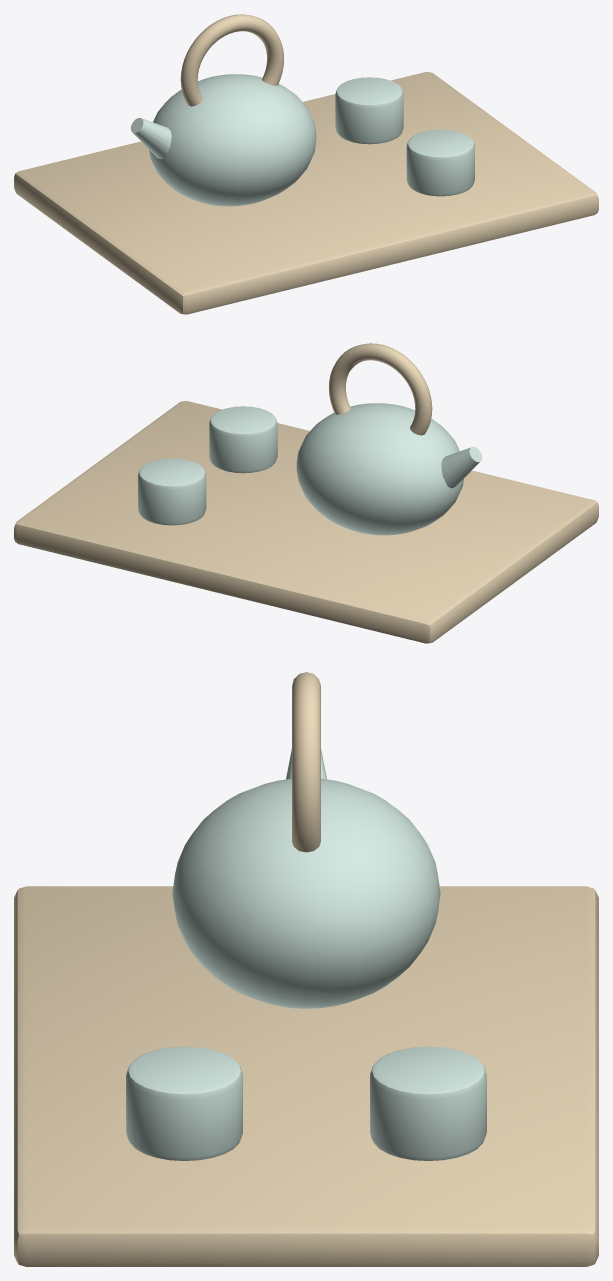
Rendered from celadon-tea-ceremony-set.glb.
3 renders of one model, top to bottom at view 1: azimuth 30°, elevation 25°; view 2: azimuth 150°, elevation 25°; view 3: azimuth 270°, elevation 25°, orthographic. The views are drawn at different scales.
Visible parts, largest first — view 1: tea_BambooTray, tea_CeladonTeapot, tea_Teacup_0, tea_Teacup_1, tea_TeapotHandle, tea_TeapotSpout; view 2: tea_BambooTray, tea_CeladonTeapot, tea_Teacup_1, tea_Teacup_0, tea_TeapotHandle, tea_TeapotSpout; view 3: tea_BambooTray, tea_CeladonTeapot, tea_Teacup_0, tea_Teacup_1, tea_TeapotHandle.
Boxes of the visible parts, x1,y1,x2,y2 form: tea_BambooTray: [14, 72, 598, 314]; tea_CeladonTeapot: [149, 74, 316, 206]; tea_Teacup_0: [406, 129, 474, 196]; tea_Teacup_1: [335, 77, 403, 144]; tea_TeapotHandle: [180, 14, 284, 106]; tea_TeapotSpout: [130, 118, 171, 159]; tea_BambooTray: [14, 401, 598, 643]; tea_CeladonTeapot: [296, 403, 463, 535]; tea_Teacup_1: [138, 458, 206, 525]; tea_Teacup_0: [209, 406, 277, 473]; tea_TeapotHandle: [328, 343, 432, 435]; tea_TeapotSpout: [441, 447, 482, 488]; tea_BambooTray: [14, 886, 598, 1266]; tea_CeladonTeapot: [172, 778, 440, 1008]; tea_Teacup_0: [126, 1046, 242, 1160]; tea_Teacup_1: [370, 1046, 486, 1160]; tea_TeapotHandle: [292, 672, 320, 852].
Size of the model in its own units: 0.34 by 0.16 by 0.24.
